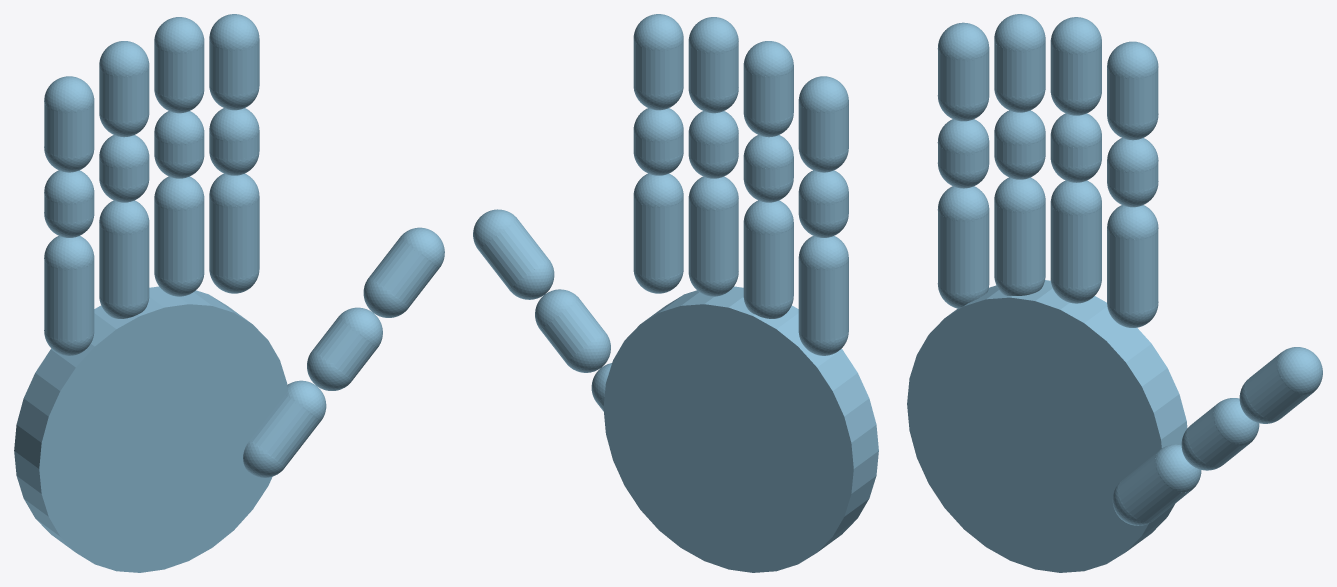
The model's file is shadow_hand_right_canonical.glb.
3 renders of one model, left to right at view 1: azimuth 30°, elevation 25°; view 2: azimuth 150°, elevation 25°; view 3: azimuth 330°, elevation 25°, orthographic. The views are drawn at different scales.
Parts seen in each view (by area): view 1: world; view 2: world; view 3: world.
Part boxes in pixels (x1,y1,x2,y2): world: [14, 14, 444, 572]; world: [473, 14, 878, 572]; world: [907, 14, 1322, 572].
Bounding box in the file's own units: 0.1608 × 0.204 × 0.026.
